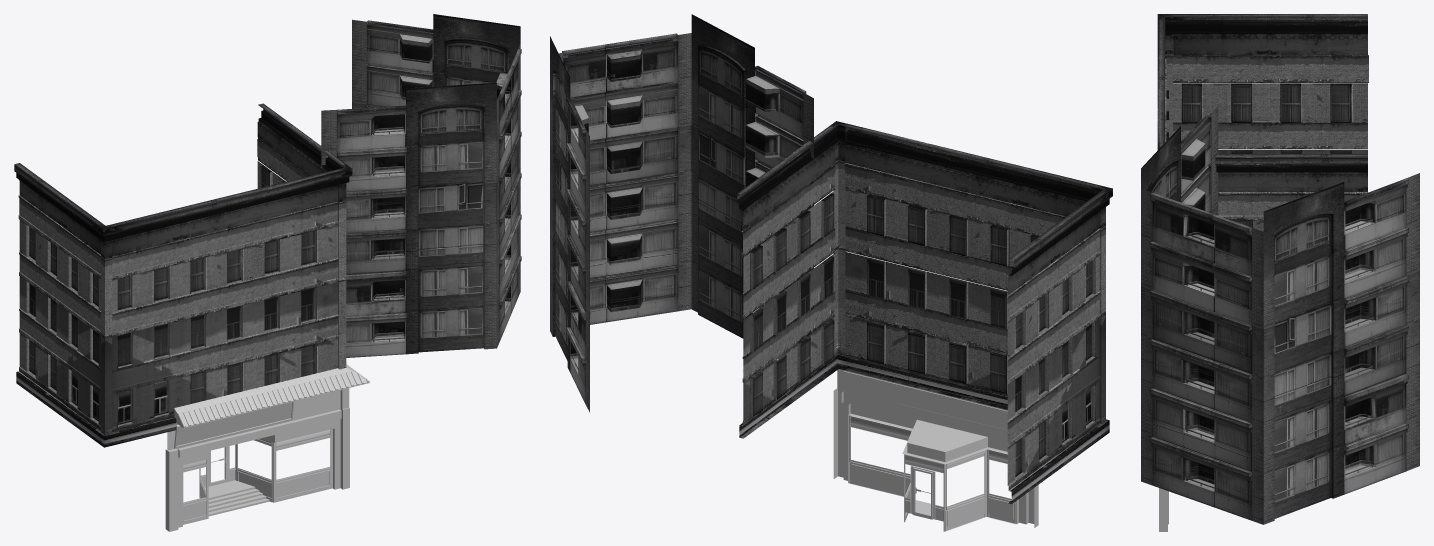
File: SWAGGER.fbx
3 renders of one model, left to right at view 1: azimuth 30°, elevation 25°; view 2: azimuth 150°, elevation 25°; view 3: azimuth 270°, elevation 25°, orthographic. The views are drawn at different scales.
Visible parts, largest first — view 1: ruby_palace_building, skidrow_building_1, ruby_palace; view 2: ruby_palace_building, skidrow_building_1, ruby_palace; view 3: skidrow_building_1, ruby_palace_building, ruby_palace.
Part boxes in pixels (left/top/right/bottom): ruby_palace_building: left=14, top=103, right=352, bottom=447; skidrow_building_1: left=321, top=14, right=521, bottom=357; ruby_palace: left=165, top=364, right=369, bottom=531; ruby_palace_building: left=737, top=121, right=1112, bottom=504; skidrow_building_1: left=550, top=14, right=813, bottom=412; ruby_palace: left=786, top=346, right=1038, bottom=531; skidrow_building_1: left=1141, top=106, right=1419, bottom=524; ruby_palace_building: left=1157, top=14, right=1368, bottom=231; ruby_palace: left=1159, top=488, right=1168, bottom=531.
Bounding box in the file's own units: 3063 × 2387 × 1358.
